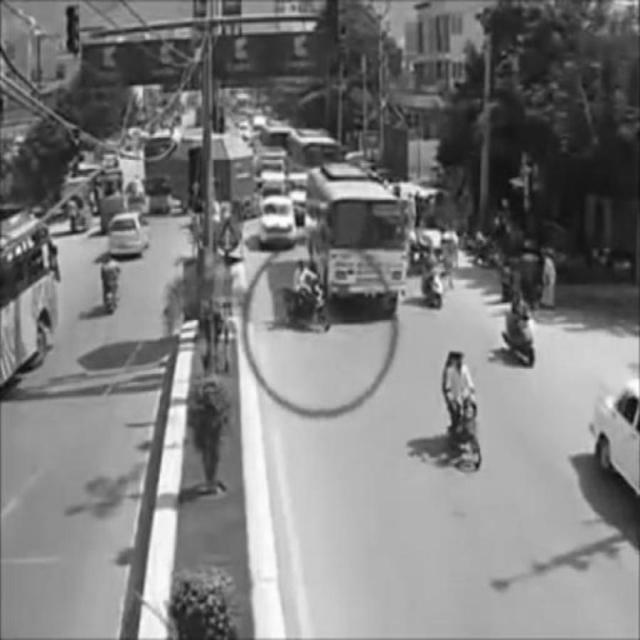vehicle: (308, 165, 404, 313), (443, 350, 481, 463), (290, 258, 331, 336), (507, 291, 537, 365), (421, 248, 448, 309), (262, 197, 297, 242), (112, 216, 149, 256), (101, 252, 121, 309)
